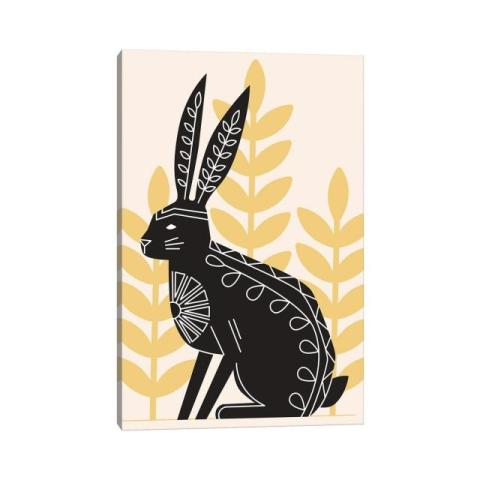small_animal: (139, 70, 358, 423)
